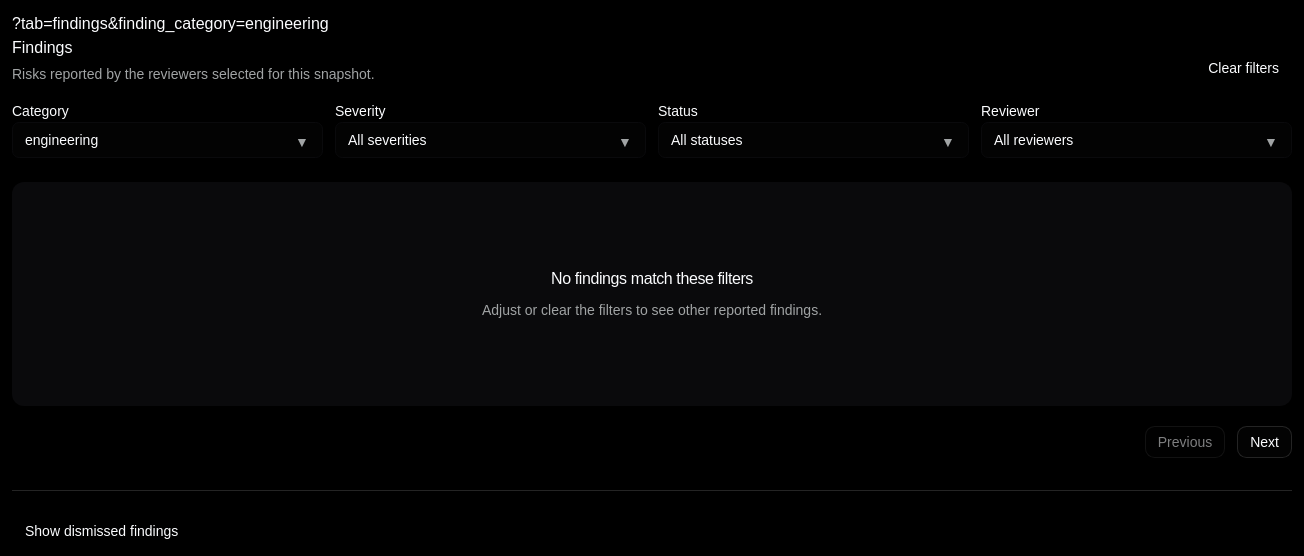
Test case: ReviewFindings › shows an empty filtered state and moves through URL-backed pages
Expected: the text "No findings match these filters" is shown, [551, 267, 753, 291]
Click the button "Next": (1265, 442) [1237, 426, 1292, 458]
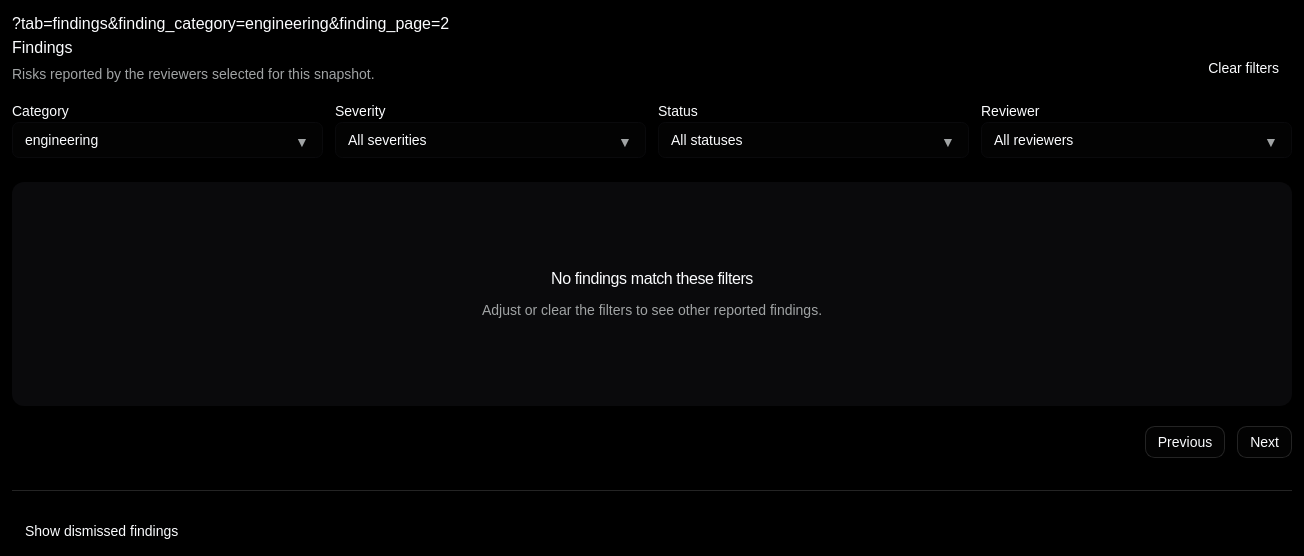
Expected: the text with test id "location" reads "?tab=findings&finding_category=engineering&finding_page=2", [12, 15, 449, 32]
